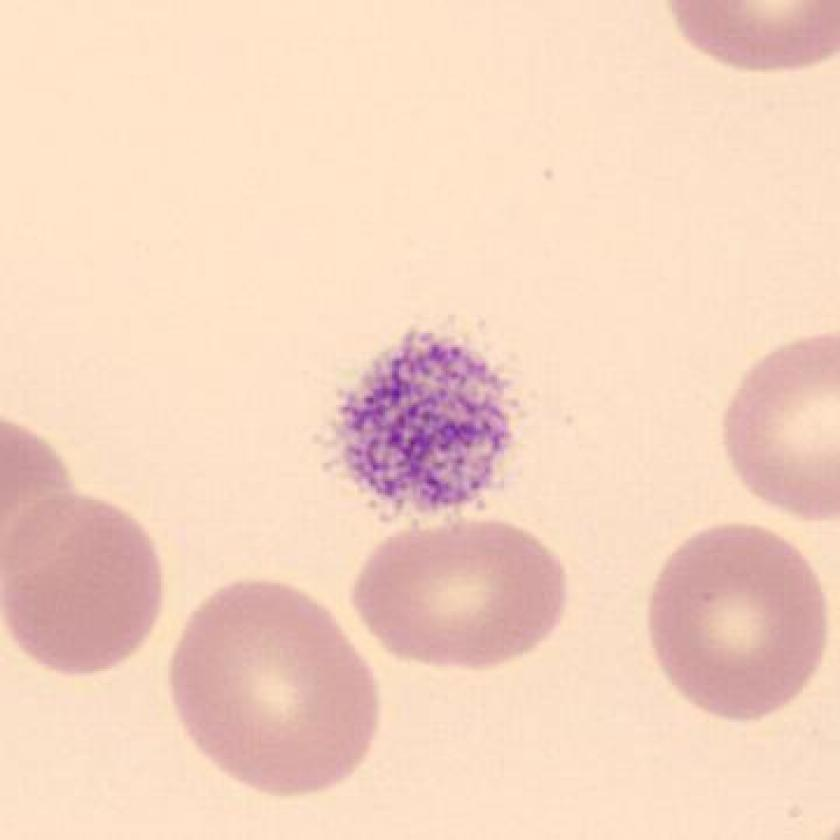platelets: (323, 316, 533, 536)
